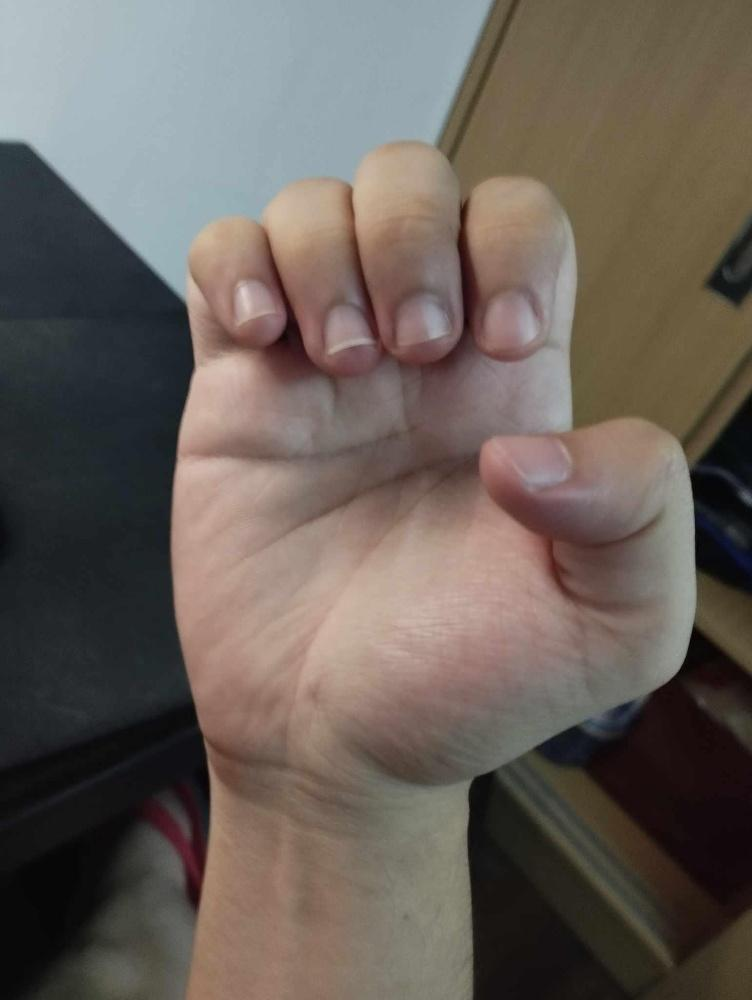e: (162, 137, 702, 795)
